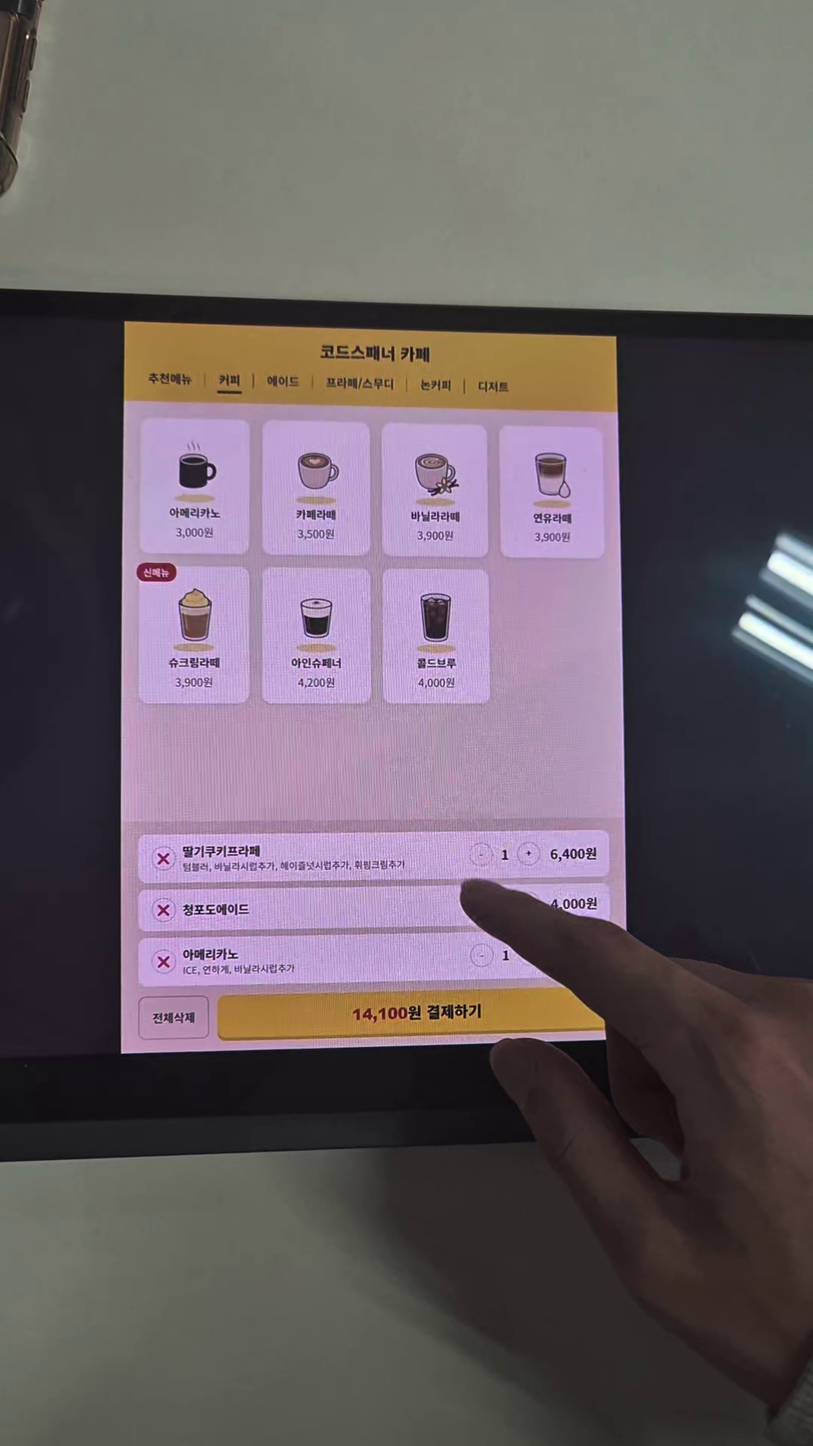action_button: (217, 986, 611, 1041), (139, 997, 209, 1038)
cart_item: (139, 930, 610, 987), (138, 830, 610, 883), (138, 883, 611, 932)
category_tab: (324, 375, 397, 393), (146, 369, 195, 387), (417, 376, 455, 394), (475, 377, 511, 396), (266, 373, 301, 390), (217, 372, 243, 388)
menu_back: (137, 563, 250, 703), (139, 419, 250, 554), (262, 419, 371, 556), (262, 567, 371, 704), (382, 423, 489, 558), (383, 568, 490, 703), (500, 425, 605, 558)
menu_name: (408, 509, 462, 524), (168, 505, 221, 520), (168, 656, 221, 670), (291, 656, 342, 670), (293, 508, 338, 522), (415, 656, 457, 670), (532, 512, 573, 526)
menu_price: (173, 675, 215, 689), (415, 528, 454, 543), (417, 676, 456, 691), (296, 527, 335, 541), (533, 531, 572, 545), (297, 676, 337, 689), (175, 526, 214, 539)
